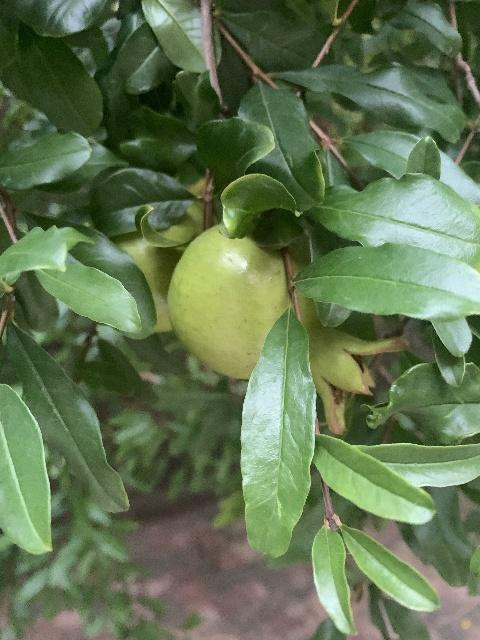mid-growth: (167, 223, 409, 435)
